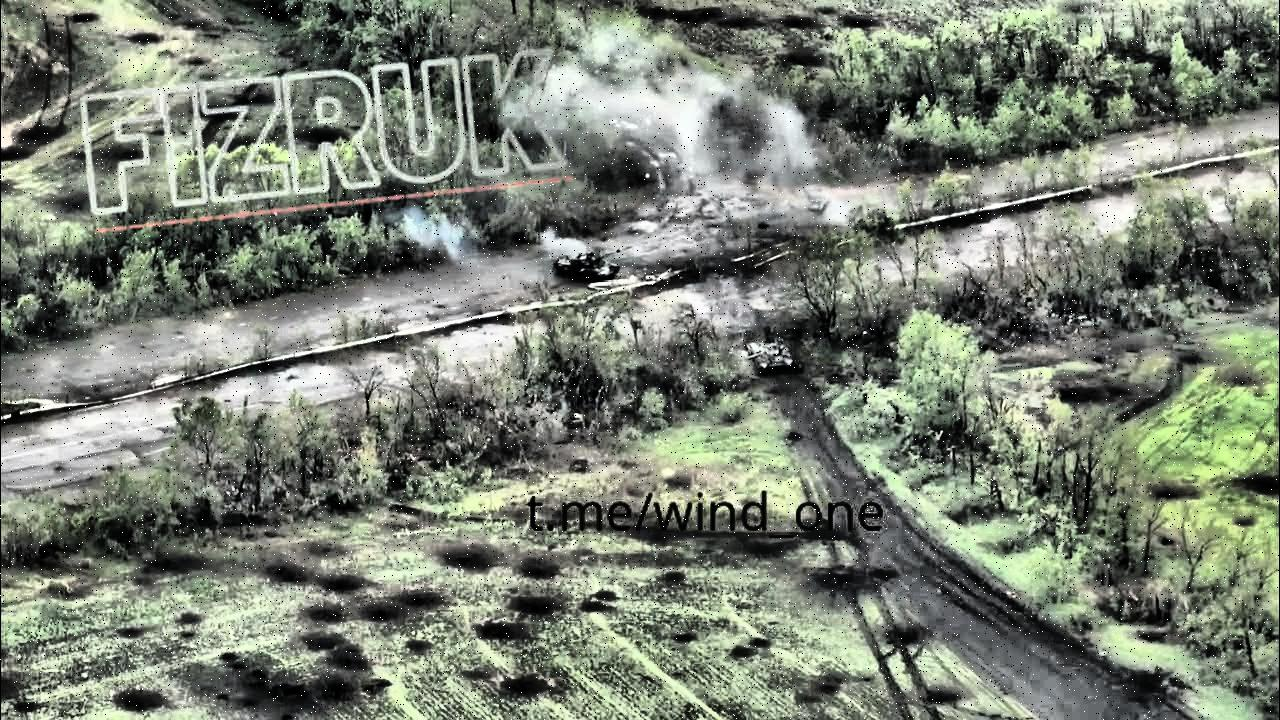military-vehicle: (551, 246, 634, 282), (732, 340, 794, 373)
